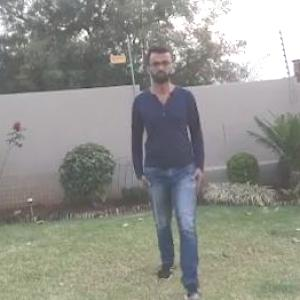follow: (143, 55, 205, 283)
